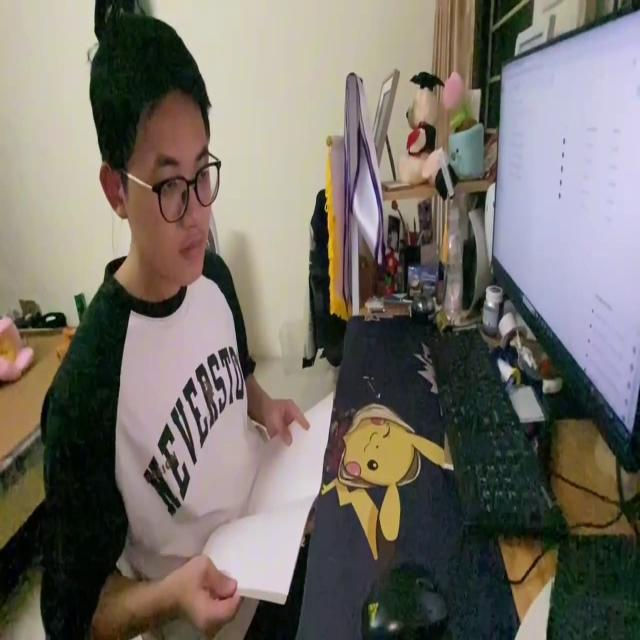book: (203, 386, 338, 611)
laptop: (490, 2, 640, 478)
student: (34, 12, 309, 640)
